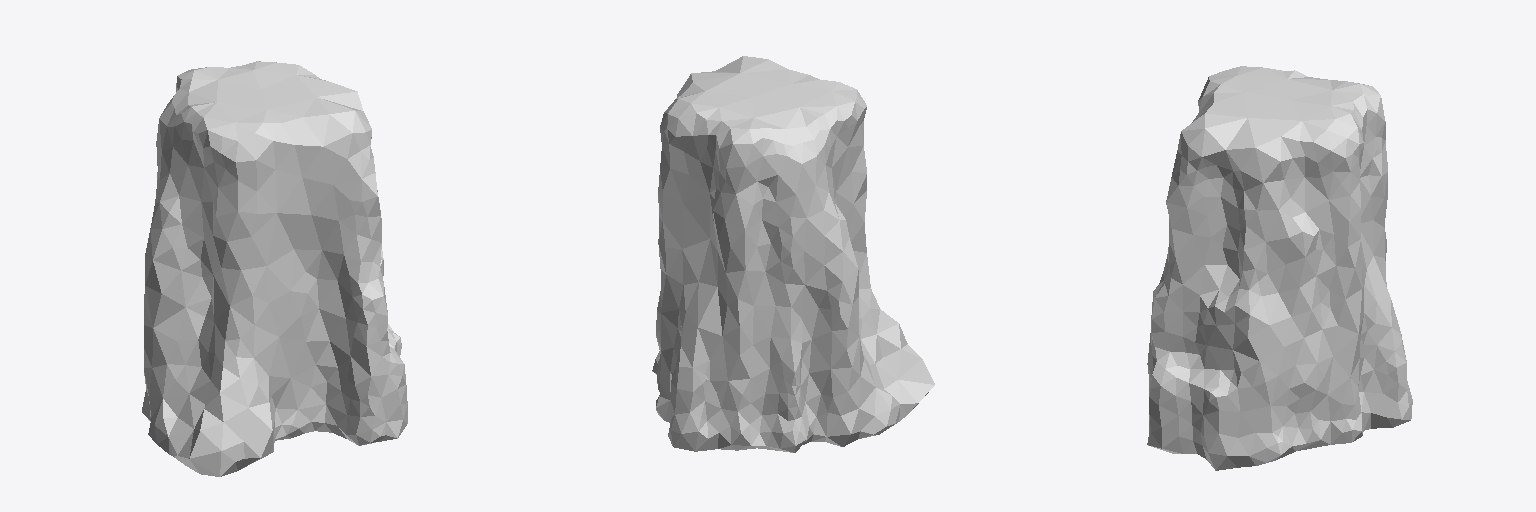
Rendered from RockSet06-D.obj.
3 renders of one model, left to right at view 1: azimuth 30°, elevation 25°; view 2: azimuth 150°, elevation 25°; view 3: azimuth 270°, elevation 25°, orthographic.
Parts seen in each view (by area): view 1: RockSet06-D; view 2: RockSet06-D; view 3: RockSet06-D.
Boxes of the visible parts, x1=… form: RockSet06-D: x1=142, y1=61, x2=407, y2=476; RockSet06-D: x1=652, y1=56, x2=934, y2=452; RockSet06-D: x1=1147, y1=66, x2=1412, y2=470.
Size of the model in its own units: 21.72 by 28.67 by 21.37.